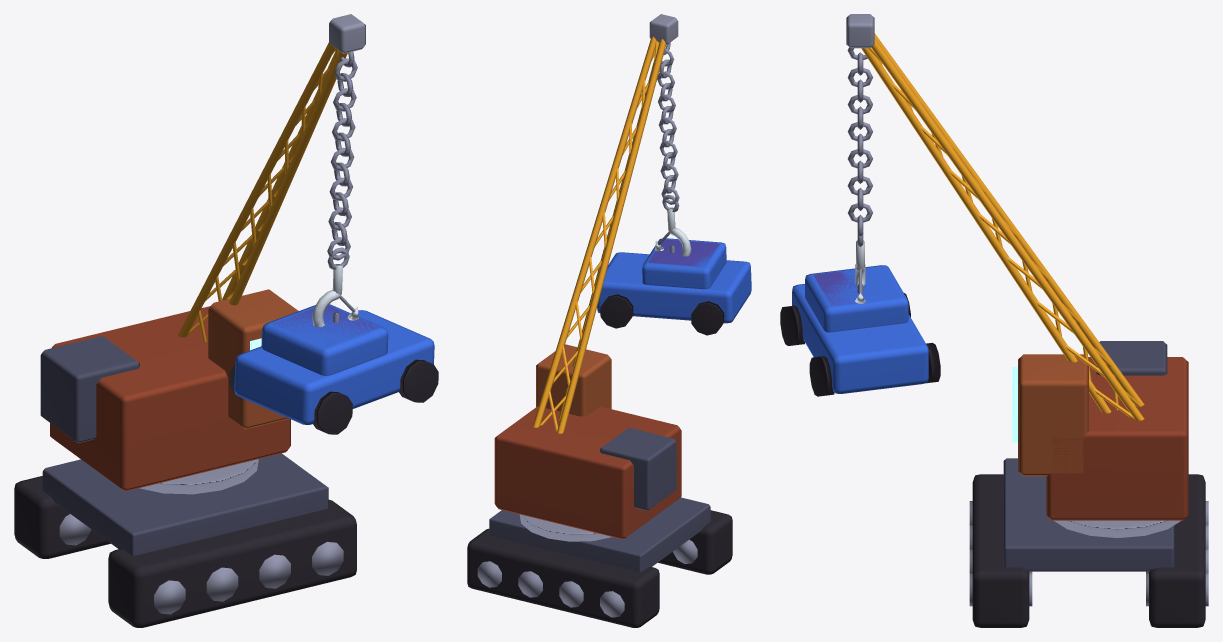
File: tow_crane.glb
The picture shows the model from 3 angles, left to right: view 1: azimuth 30°, elevation 25°; view 2: azimuth 150°, elevation 25°; view 3: azimuth 270°, elevation 25°; orthographic projection. The views are drawn at different scales.
Visible parts, largest first — view 1: Crane, Load.001; view 2: Crane, Load.001; view 3: Crane, Load.001.
Boxes of the visible parts, x1,y1,x2,y2 form: Crane: (14, 14, 365, 627); Load.001: (229, 51, 438, 434); Crane: (467, 14, 732, 627); Load.001: (597, 42, 751, 335); Crane: (846, 14, 1208, 627); Load.001: (780, 47, 940, 396).
Size of the model in its own units: 1.71 by 4.49 by 3.01.
